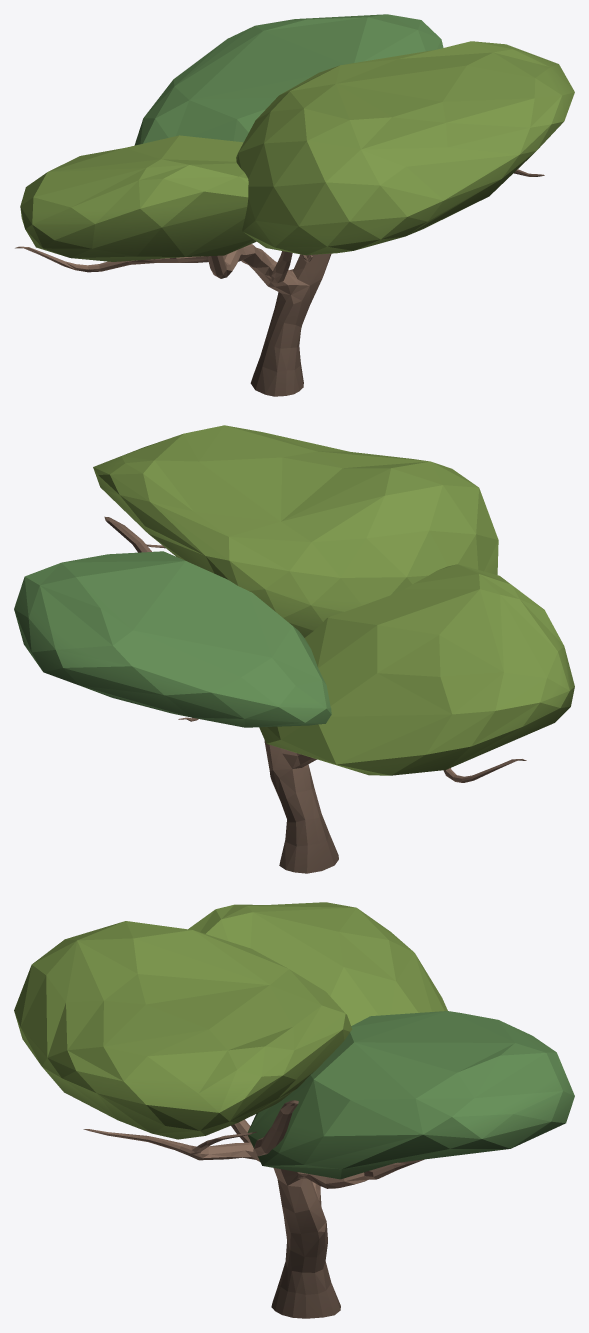
Rendered from JungleTree_Med_A.fbx.
The picture shows the model from 3 angles, top to bottom: view 1: azimuth 30°, elevation 25°; view 2: azimuth 150°, elevation 25°; view 3: azimuth 270°, elevation 25°; orthographic projection. The views are drawn at different scales.
Visible parts, largest first — view 1: JungleTree_Med_A; view 2: JungleTree_Med_A; view 3: JungleTree_Med_A.
Boxes of the visible parts, x1,y1,x2,y2 form: JungleTree_Med_A: (15,14,574,396); JungleTree_Med_A: (14,425,574,873); JungleTree_Med_A: (14,902,574,1318).
Bounding box in the file's own units: 16.38 × 10.19 × 14.14.
